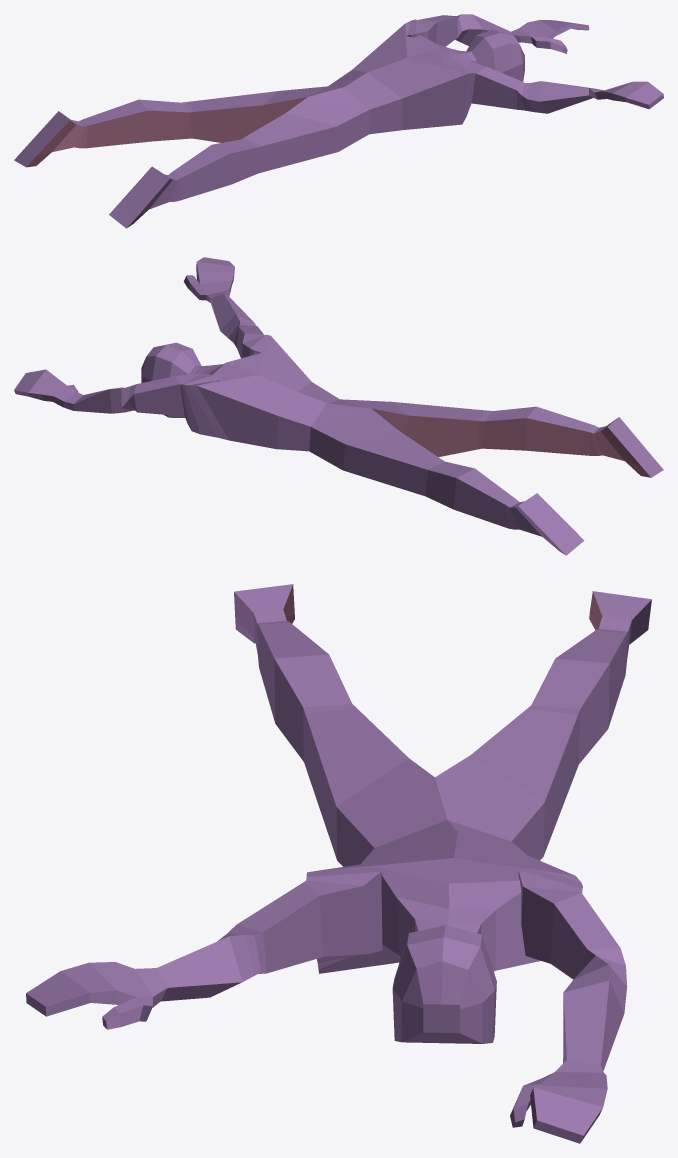
The model's file is NPCsCorpsesOvertime1.fbx.
3 renders of one model, top to bottom at view 1: azimuth 30°, elevation 25°; view 2: azimuth 150°, elevation 25°; view 3: azimuth 270°, elevation 25°, orthographic. The views are drawn at different scales.
Visible parts, largest first — view 1: NPCV1.002; view 2: NPCV1.002; view 3: NPCV1.002.
Part boxes in pixels (x1,y1,x2,y2): NPCV1.002: (14,14,663,228); NPCV1.002: (14,257,663,555); NPCV1.002: (26,584,651,1143).
Size of the model in its own units: 2.58 by 1.27 by 0.3058.
